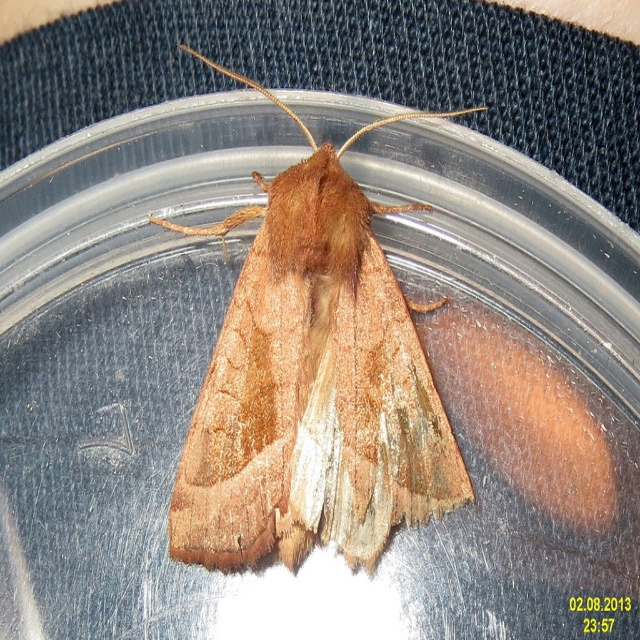Moths and butterflies: (149, 44, 487, 573)
